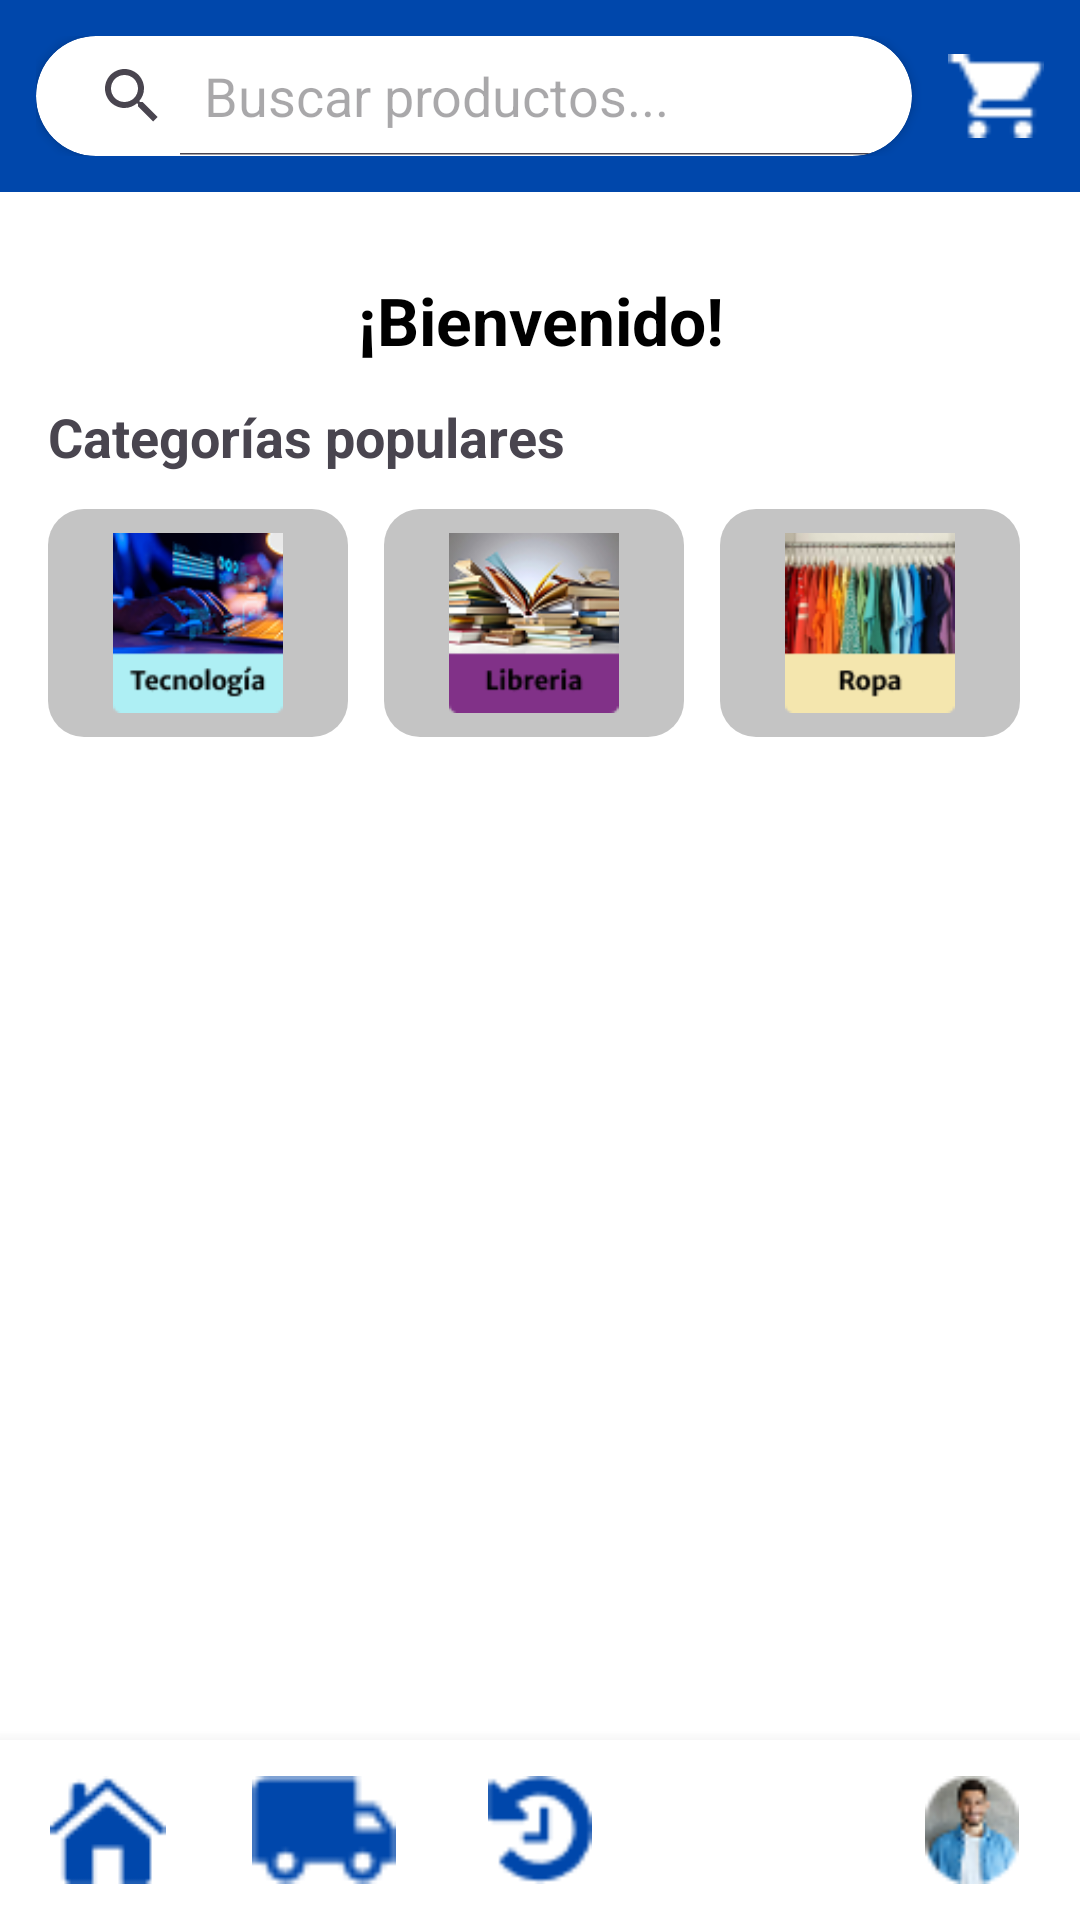

Icons on this 1080px×1920px Android screen, each with the point to tap as [x,y]:
Carrito: [996,96]
Envíos: [324,1830]
Historial: [540,1830]
Inicio: [108,1831]
